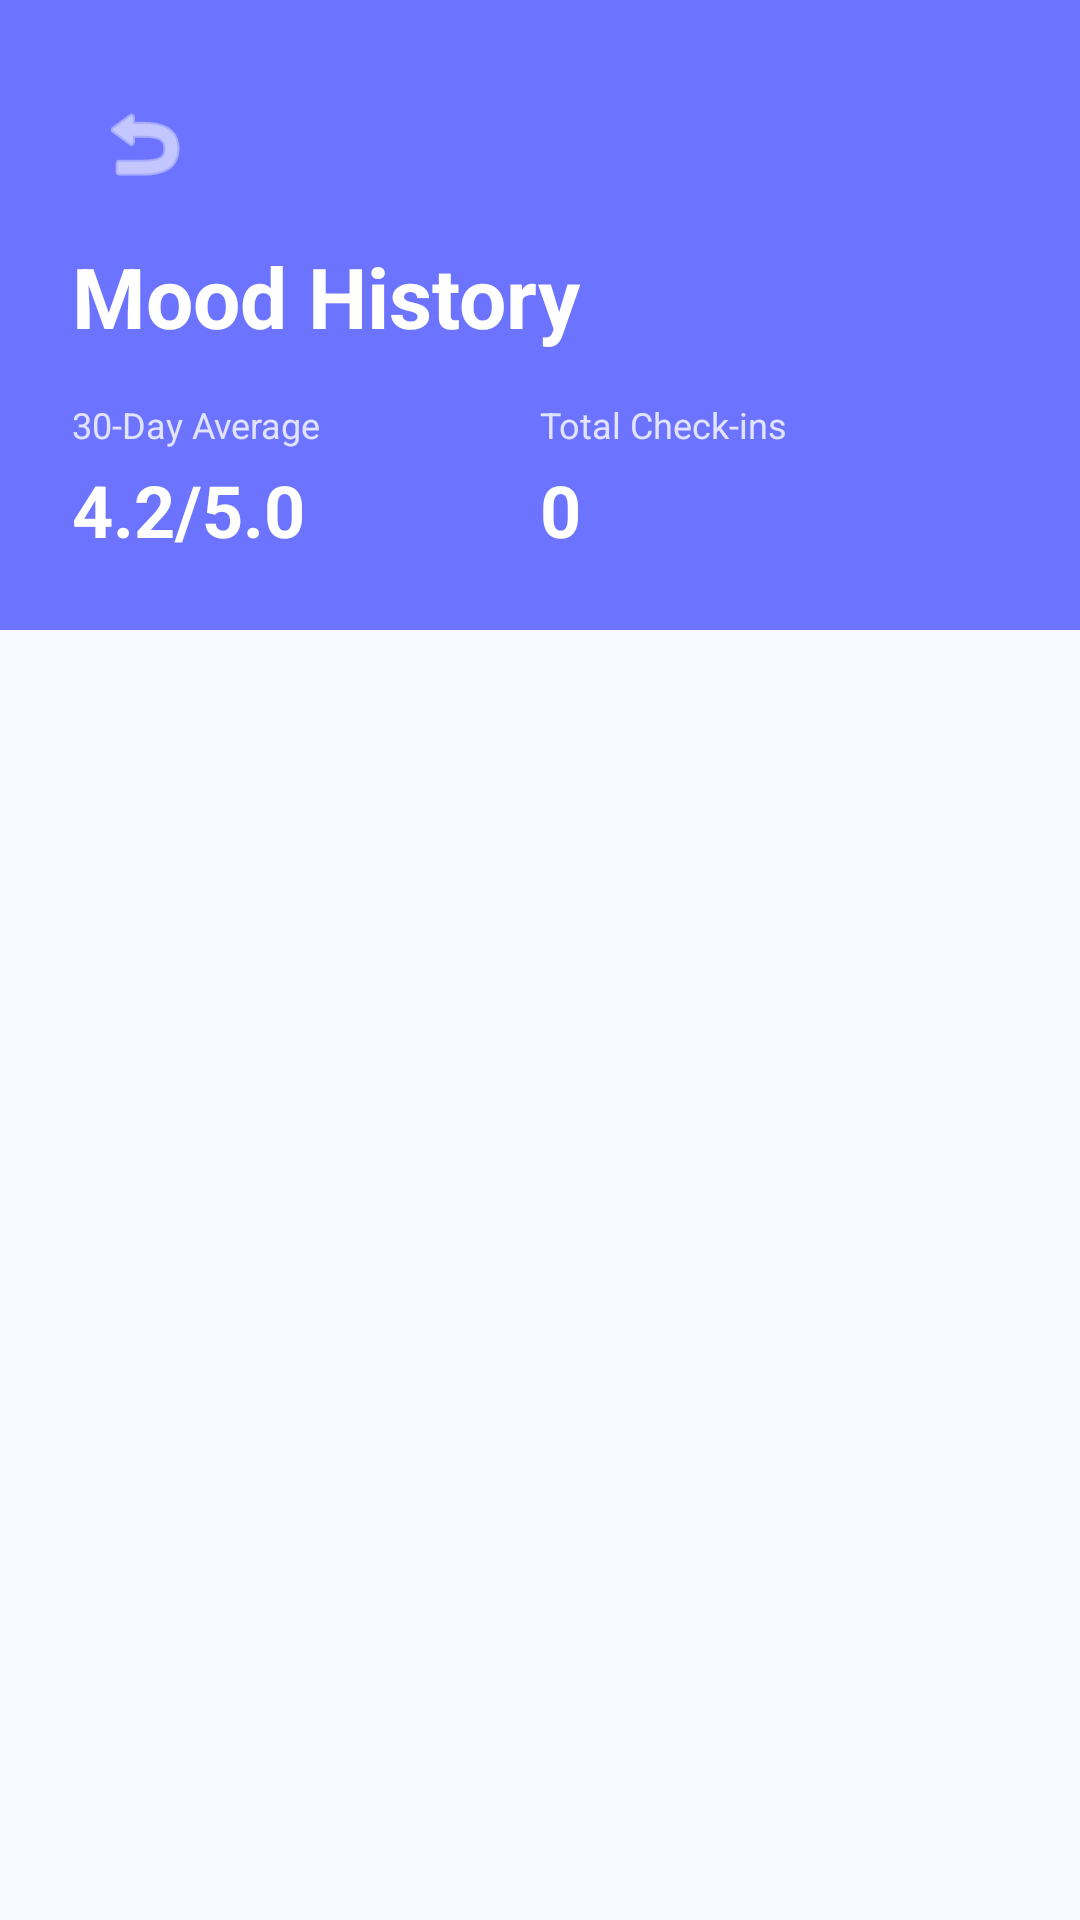

Icons on this 1080×1920 Android screen, each with the point to tap as point (x, y):
Go back: point (145, 145)
